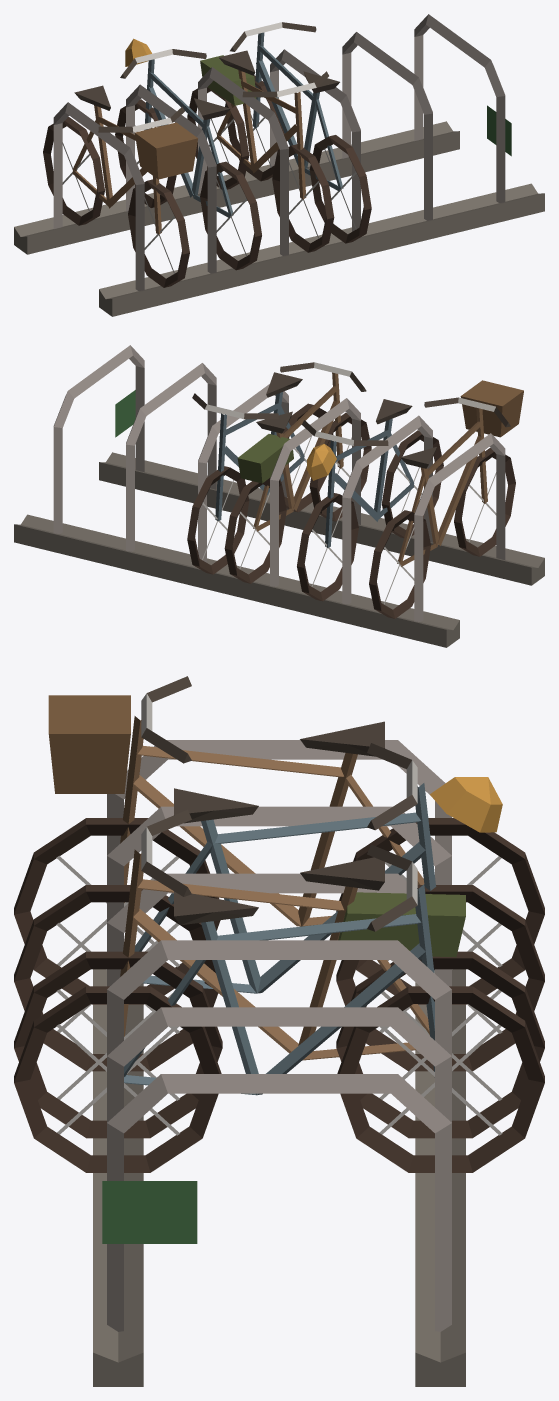
File: campus-bike-rack-386d4d.glb
The picture shows the model from 3 angles, top to bottom: view 1: azimuth 30°, elevation 25°; view 2: azimuth 150°, elevation 25°; view 3: azimuth 270°, elevation 25°; orthographic projection. The views are drawn at different scales.
Visible parts, largest first — view 1: rack, bikes-mesh; view 2: rack, bikes-mesh; view 3: bikes-mesh, rack.
Part boxes in pixels (x1,y1,x2,y2): rack: [14, 14, 544, 316]; bikes-mesh: [43, 22, 371, 287]; rack: [14, 345, 544, 647]; bikes-mesh: [187, 362, 523, 618]; bikes-mesh: [14, 676, 544, 1172]; rack: [93, 740, 465, 1386].
Size of the model in its own units: 3 by 1.14 by 1.68.
